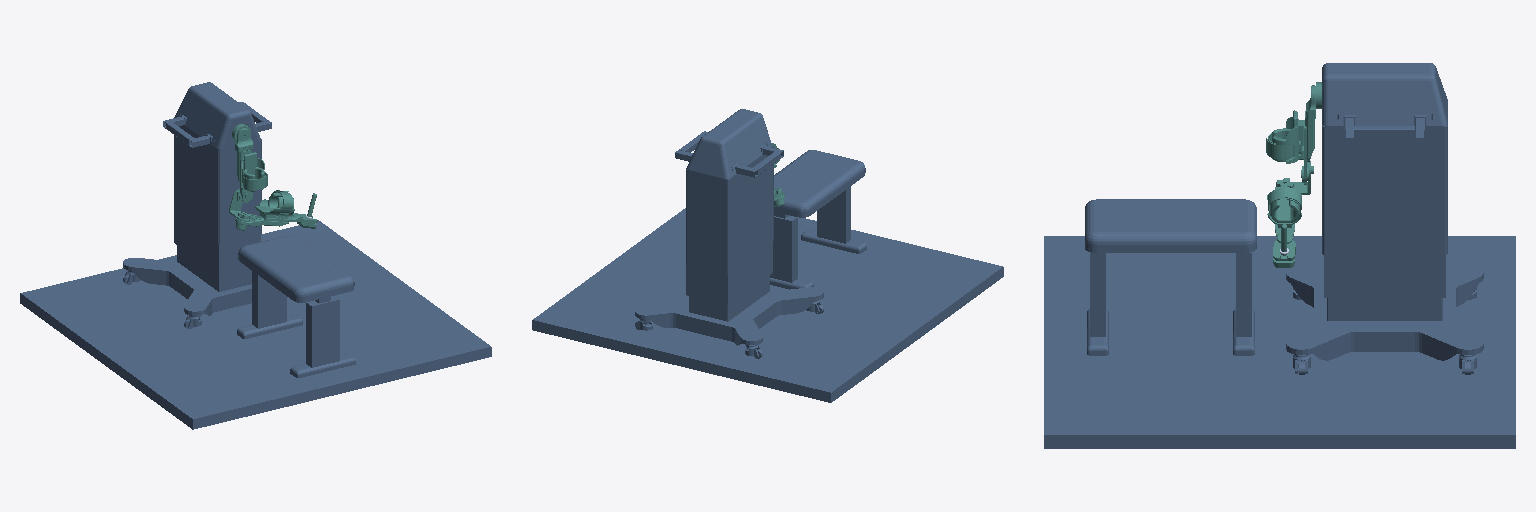
The robot description file, URDF, robot "rehab_1dof_description":
<?xml version="1.0" encoding="utf-8"?>
<!-- This URDF was automatically created by SolidWorks to URDF Exporter! Originally created by [author] ([email redacted]) 
     Commit Version: 1.5.1-0-g916b5db  Build Version: 1.5.7152.31018
     For more information, please see http://wiki.ros.org/sw_urdf_exporter -->
<robot name="rehab_1dof_description">
  <link name="base_link">
    <inertial>
      <origin xyz="0.00021257 -0.31056 0.12052" rpy="0 0 0" />
      <mass value="75.0" />
      <inertia ixx="22.595" ixy="-7.4479E-07" ixz="1.5578E-07"
       	       iyy="21.889" iyz="0.00070046" izz="43.742" />
    </inertial>
    <visual>
      <origin
        xyz="0 0 0"
        rpy="0 0 0" />
      <geometry>
        <mesh
          filename="package://rehab_1dof_description/meshes/base_link.STL" />
      </geometry>
      <material
        name="">
        <color
          rgba="0.37647 0.47059 0.58824 1" />
      </material>
    </visual>
    <collision>
      <origin
        xyz="0 0 0"
        rpy="0 0 0" />
      <geometry>
        <mesh
          filename="package://rehab_1dof_description/meshes/base_link.STL" />
      </geometry>
    </collision>
  </link>
  
  <link
    name="arm_link">
    <inertial>
      <origin
        xyz="-0.25671 -0.055563 0.09829"
        rpy="0 0 0" />
      <mass
        value="2.4366" />
      <inertia
        ixx="0.0031836"
        ixy="-0.00018573"
        ixz="0.00017661"
        iyy="0.0030425"
        iyz="-7.2918E-06"
        izz="0.0042541" />
    </inertial>
    <visual>
      <origin
        xyz="0 0 0"
        rpy="0 0 0" />
      <geometry>
        <mesh
          filename="package://rehab_1dof_description/meshes/arm_link.STL" />
      </geometry>
      <material
        name="">
        <color
          rgba="0.37647 0.58824 0.57647 1" />
      </material>
    </visual>
    <collision>
      <origin
        xyz="0 0 0"
        rpy="0 0 0" />
      <geometry>
        <mesh
          filename="package://rehab_1dof_description/meshes/arm_link.STL" />
      </geometry>
    </collision>
  </link>
  <joint
    name="shoulder_joint"
    type="revolute">
    <origin
      xyz="0 -0.193 0.89213"
      rpy="1.5708 -1.5708 0" />
    <parent
      link="base_link" />
    <child
      link="arm_link" />
    <axis
      xyz="0 0 1" />
    <limit
      lower="0"
      upper="1.571"
      effort="200"
      velocity="3" />
  </joint>
  <link
    name="hand_link">
    <inertial>
      <origin
        xyz="0.0024147 1.8041E-16 -1.1102E-16"
        rpy="0 0 0" />
      <mass
        value="0.001885" />
      <inertia
        ixx="3.0241E-07"
        ixy="-3.1019E-25"
        ixz="-3.9705E-23"
        iyy="1.5494E-07"
        iyz="9.5384E-24"
        izz="1.5494E-07" />
    </inertial>
    <visual>
      <origin
        xyz="0 0 0"
        rpy="0 0 0" />
      <geometry>
        <mesh
          filename="package://rehab_1dof_description/meshes/hand_link.STL" />
      </geometry>
      <material
        name="">
        <color
          rgba="0.79216 0.81961 0.93333 1" />
      </material>
    </visual>
    <collision>
      <origin
        xyz="0 0 0"
        rpy="0 0 0" />
      <geometry>
        <mesh
          filename="package://rehab_1dof_description/meshes/hand_link.STL" />
      </geometry>
    </collision>
  </link>
  <joint
    name="wrist_joint"
    type="fixed">
    <origin
      xyz="-0.41941 -0.27382 0.12737"
      rpy="1.5339 0 -0.28669" />
    <parent
      link="arm_link" />
    <child
      link="hand_link" />
    <axis
      xyz="0 0 1" />
  </joint>
  
  <link name="world"/>
  <joint name="world_dummy_joint" type="fixed">
    <origin xyz="0 0 0" rpy="0 0 0" />
    <parent link="world" />
    <child link="dummy_link" />
  </joint>
  
  <link name="dummy_link"/>
  <joint name="dummy_base_joint" type="fixed">
    <origin xyz="0 0 0" rpy="0 0 0" />
    <parent link="dummy_link" />
    <child link="base_link" />
  </joint>
  
</robot>

--- Render facts (derived) ---
3 views of the same robot in one strip: view 1: azimuth 30°, elevation 25°; view 2: azimuth 150°, elevation 25°; view 3: azimuth 270°, elevation 25° (orthographic).
Model rehab_1dof_description with 5 links and 4 joints (1 revolute, 3 fixed), rooted at world, posed every joint at zero.
Visible links, largest first — view 1: base_link, arm_link; view 2: base_link; view 3: base_link, arm_link.
Boxes of the visible links, x1=… form: base_link: x1=20, y1=82, x2=491, y2=429; arm_link: x1=229, y1=124, x2=317, y2=230; base_link: x1=532, y1=109, x2=1003, y2=402; base_link: x1=1044, y1=63, x2=1515, y2=448; arm_link: x1=1266, y1=82, x2=1321, y2=267.
Bounding box of the posed robot: 1.5 × 1.5 × 0.9861 m (x, y, z).
3 mesh visuals loaded from 3 distinct referenced files (3 binary STL).